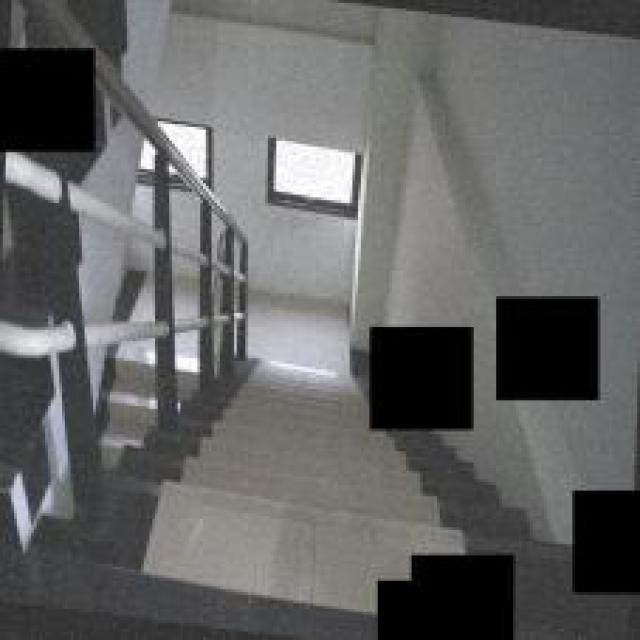downstair: (223, 332, 361, 640)
